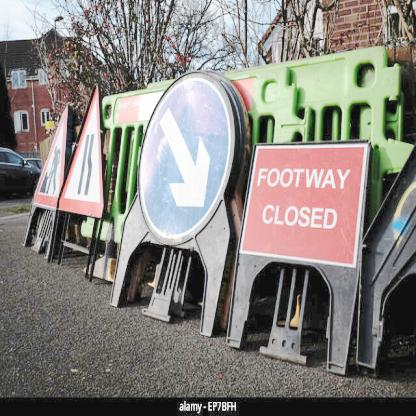Keep right: (137, 70, 236, 248)
